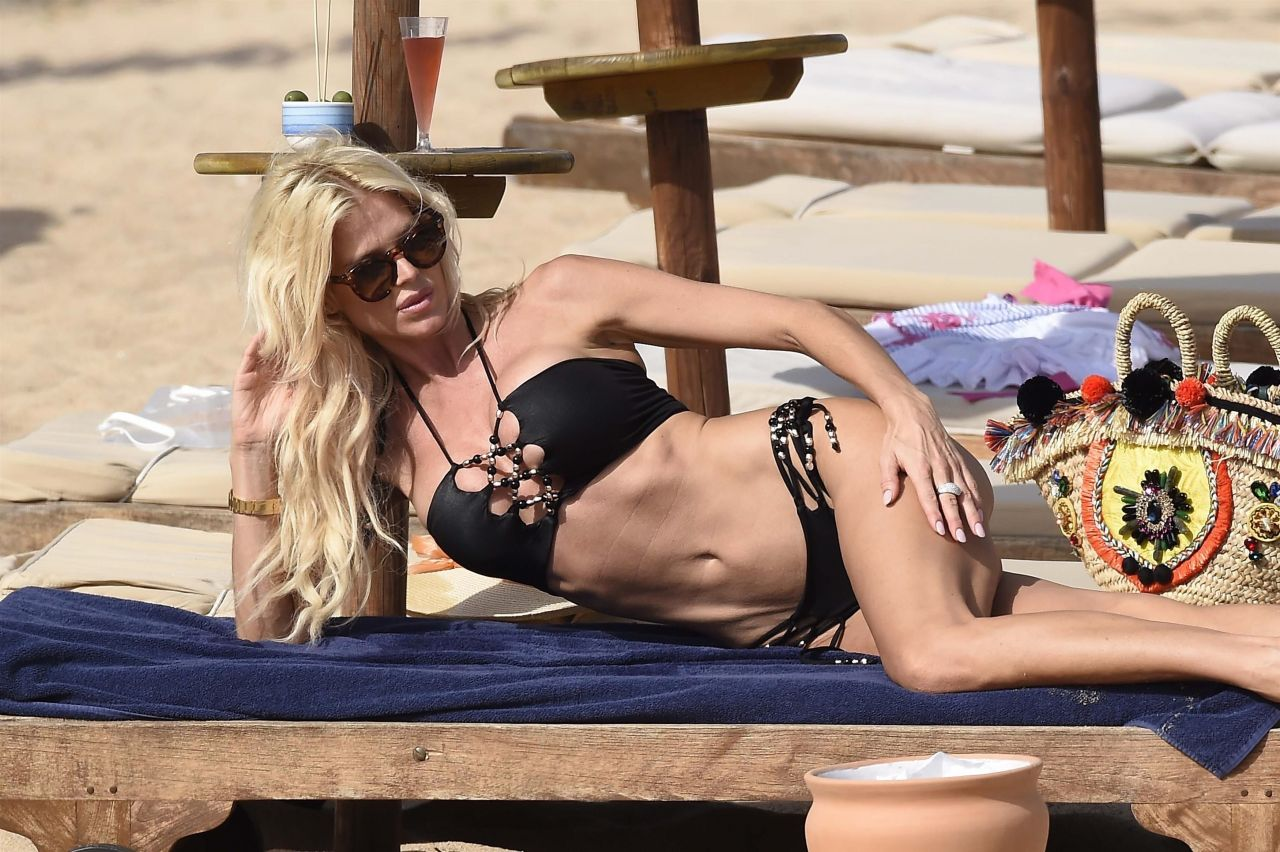Person: (193, 118, 1280, 741)
